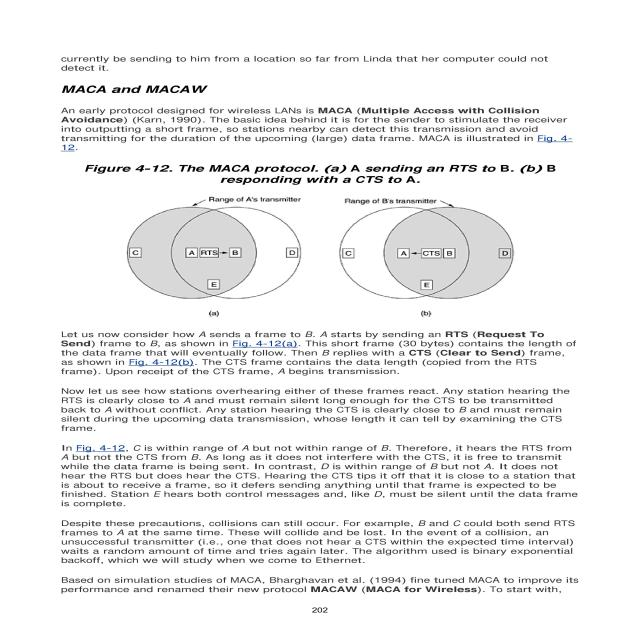diagram: (75, 157, 563, 332)
